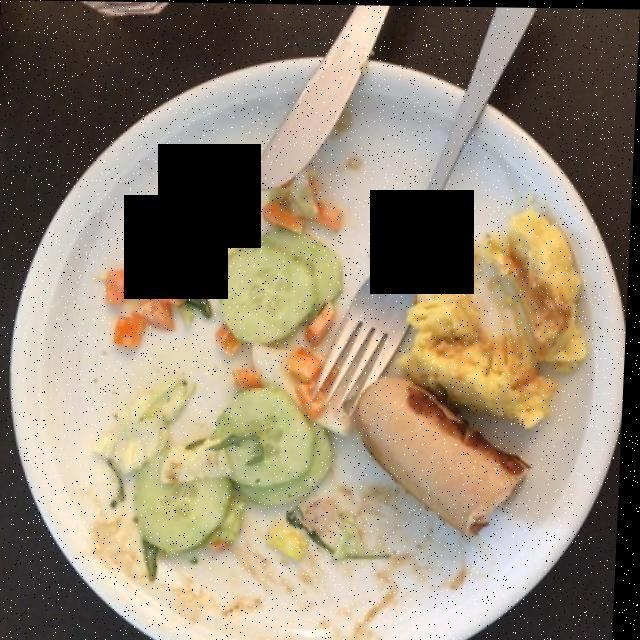cucumber: (142, 229, 349, 543)
mashed-potatoes: (428, 207, 581, 421)
sausage: (363, 375, 526, 545)
